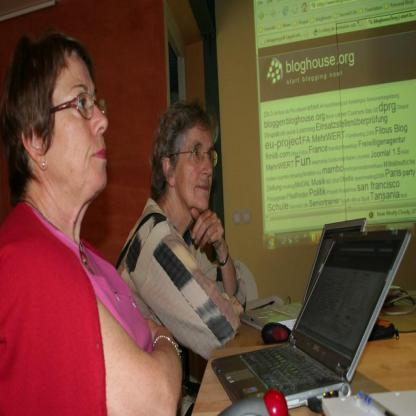board: (211, 226, 411, 408), (238, 218, 367, 332)
